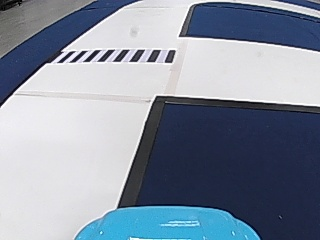CrossWalk: (58, 47, 181, 64)
